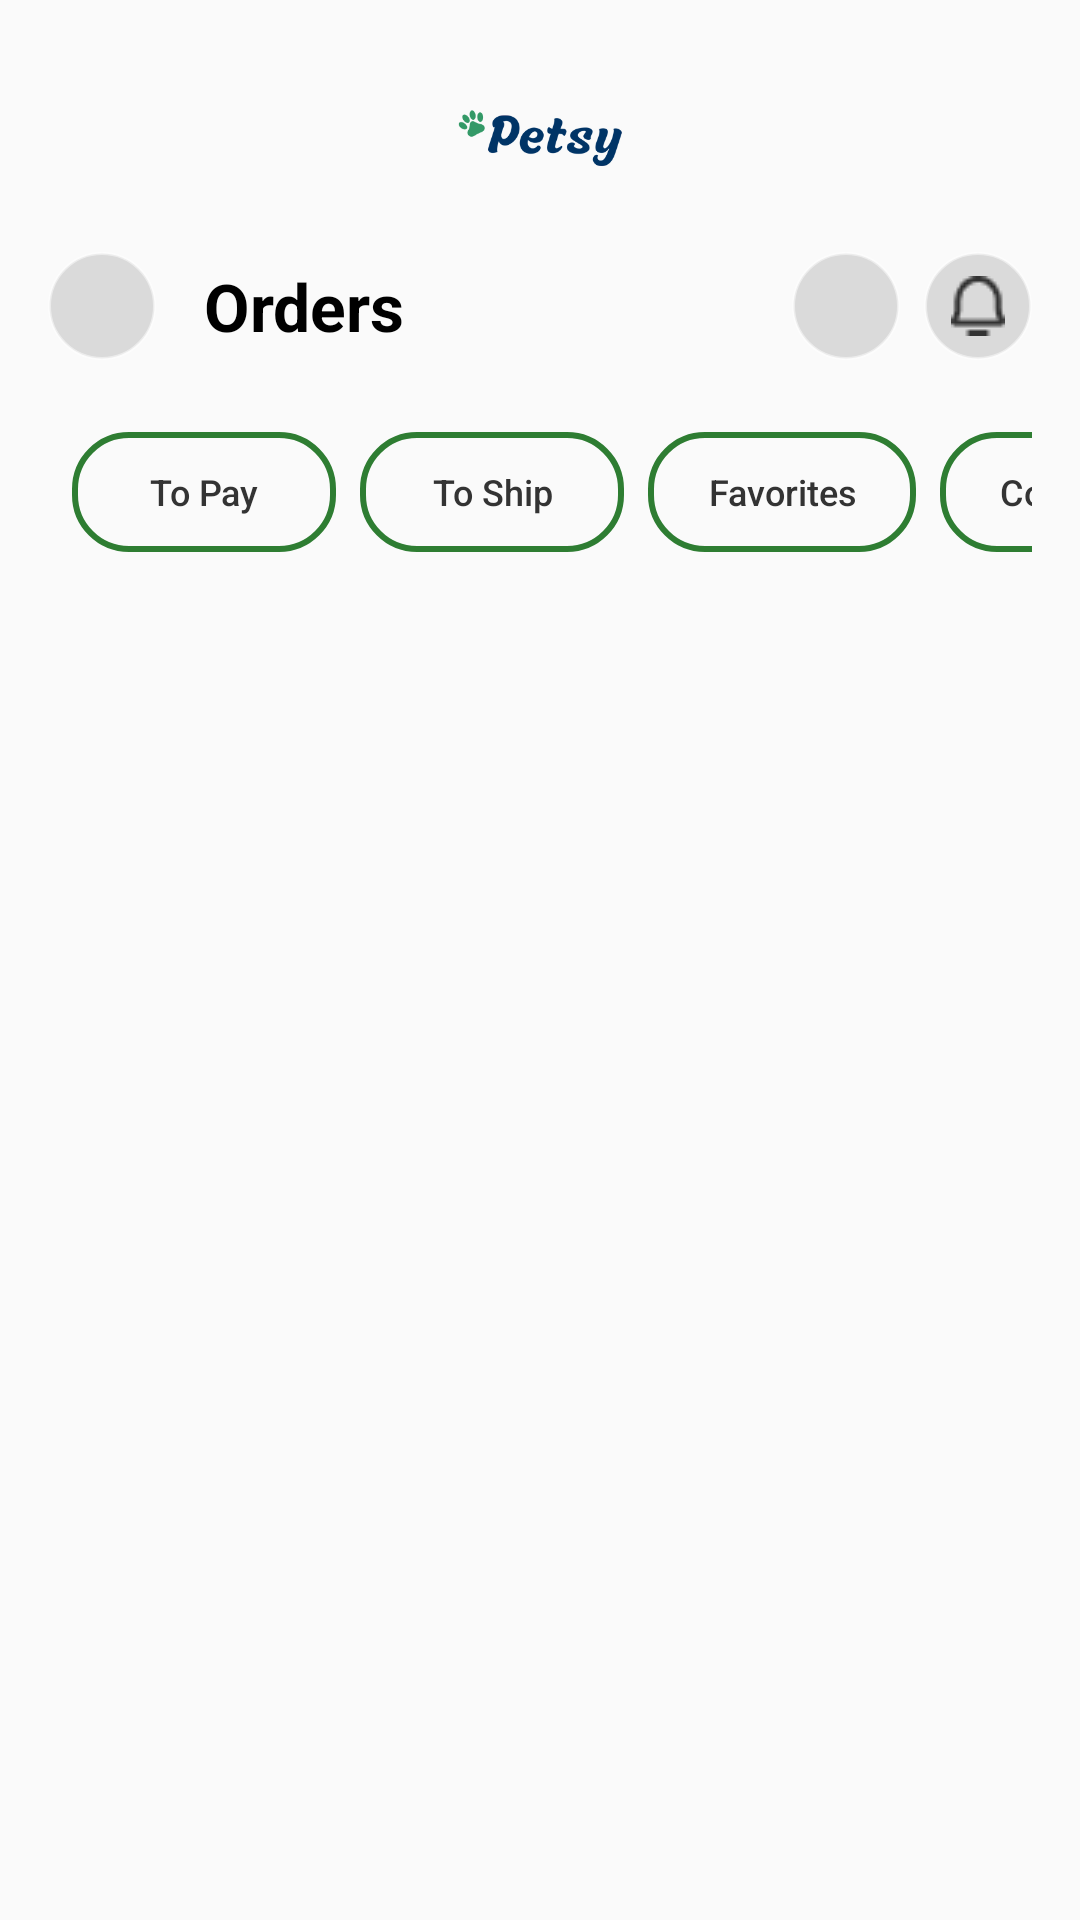

Where to tap for icons on this 1080 × 1920 app screen, as point (x, y):
Notifications: point (978, 306)
